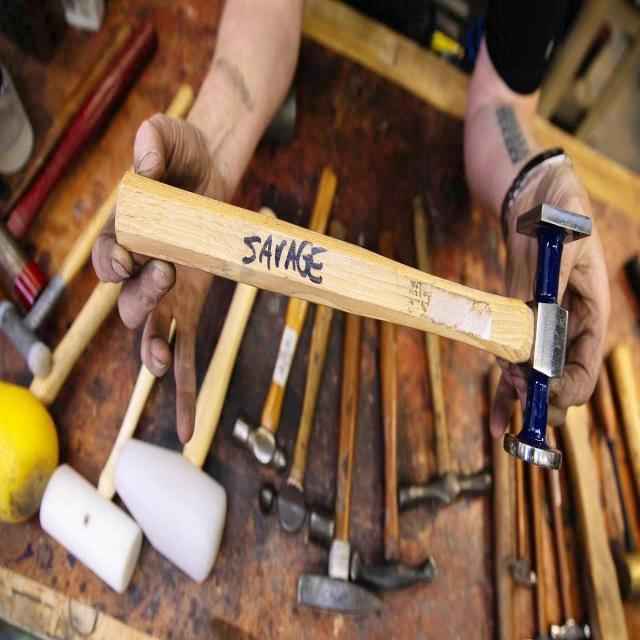hammer: (109, 164, 594, 477), (108, 178, 280, 584), (255, 199, 368, 551), (293, 212, 387, 617), (228, 158, 342, 477), (350, 205, 438, 598), (394, 178, 498, 508)
